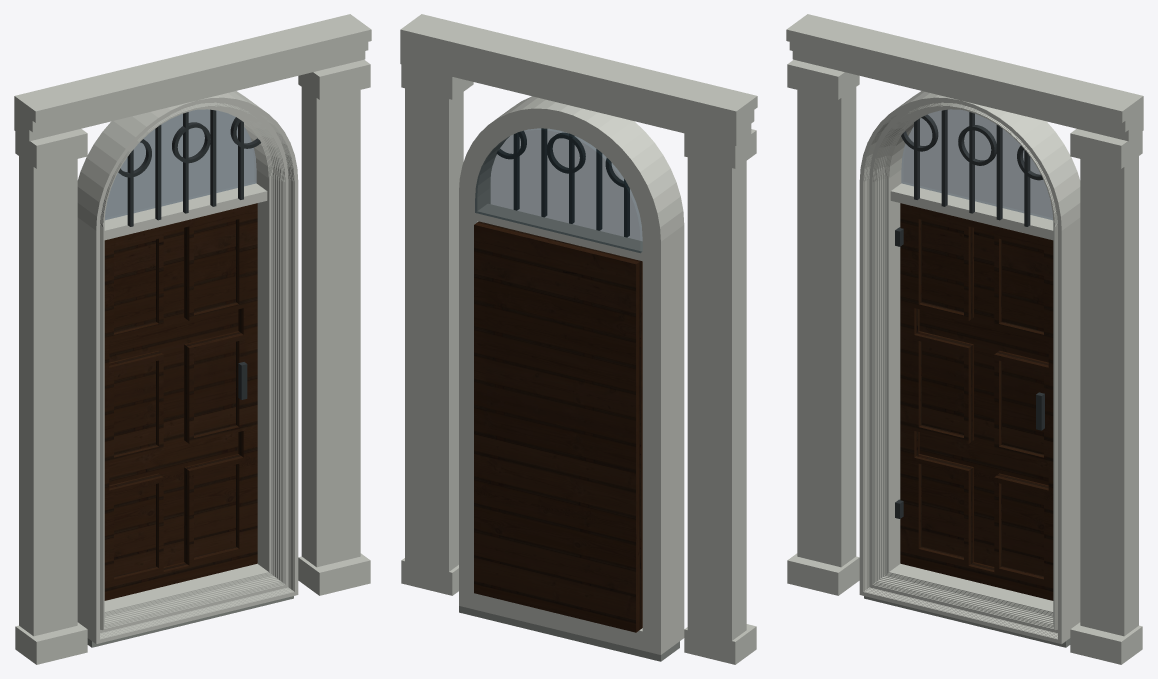
File: republicano_arch_puerta.glb
3 renders of one model, left to right at view 1: azimuth 30°, elevation 25°; view 2: azimuth 150°, elevation 25°; view 3: azimuth 330°, elevation 25°, orthographic.
Visible parts, largest first — view 1: door_pilaster#0002, door_pilaster#0001, door_panel_back#0001, door_portal_cornice#0003, door_leaf_frame#0001, door_moulding#0028, door_reveal#0001, transom_glass#0001, transom_grille#0001, door_coffer#0005, door_coffer#0004, door_coffer#0006 (+42 smaller); view 2: door_panel_back#0001, door_pilaster#0001, door_reveal#0001, door_pilaster#0002, door_leaf_frame#0001, transom_glass#0001, door_portal_cornice#0003, door_moulding#0028, door_portal_cornice#0002, door_portal_cornice#0001, transom_rail#0001, transom_grille#0001 (+5 smaller); view 3: door_pilaster#0001, door_pilaster#0002, door_panel_back#0001, door_portal_cornice#0003, door_leaf_frame#0001, door_moulding#0028, door_reveal#0001, transom_glass#0001, transom_grille#0001, door_coffer#0002, door_coffer#0001, door_coffer#0003 (+42 smaller).
Boxes of the visible parts, left/top/right/bottom form: door_pilaster#0002: left=301, top=87, right=360, bottom=567; door_pilaster#0001: left=19, top=156, right=77, bottom=636; door_panel_back#0001: left=109, top=228, right=238, bottom=566; door_portal_cornice#0003: left=14, top=14, right=371, bottom=122; door_leaf_frame#0001: left=104, top=203, right=257, bottom=600; door_moulding#0028: left=81, top=92, right=298, bottom=643; door_reveal#0001: left=77, top=91, right=266, bottom=624; transom_glass#0001: left=105, top=109, right=256, bottom=220; transom_grille#0001: left=118, top=109, right=260, bottom=226; door_coffer#0005: left=184, top=331, right=239, bottom=441; door_coffer#0004: left=184, top=454, right=240, bottom=563; door_coffer#0006: left=184, top=220, right=235, bottom=318; door_panel_back#0001: left=488, top=242, right=622, bottom=614; door_pilaster#0001: left=687, top=134, right=746, bottom=663; door_reveal#0001: left=459, top=101, right=670, bottom=654; door_pilaster#0002: left=405, top=65, right=463, bottom=594; door_leaf_frame#0001: left=474, top=221, right=642, bottom=632; transom_glass#0001: left=475, top=128, right=642, bottom=252; door_portal_cornice#0003: left=400, top=14, right=757, bottom=122; door_moulding#0028: left=501, top=96, right=684, bottom=648; door_portal_cornice#0002: left=400, top=41, right=754, bottom=134; door_portal_cornice#0001: left=400, top=52, right=751, bottom=145; transom_rail#0001: left=477, top=204, right=642, bottom=261; transom_grille#0001: left=497, top=128, right=629, bottom=237; door_pilaster#0001: left=797, top=87, right=856, bottom=567; door_pilaster#0002: left=1080, top=156, right=1138, bottom=636; door_panel_back#0001: left=919, top=228, right=1048, bottom=566; door_portal_cornice#0003: left=786, top=14, right=1143, bottom=122; door_leaf_frame#0001: left=900, top=203, right=1053, bottom=600; door_moulding#0028: left=859, top=92, right=1076, bottom=643; door_reveal#0001: left=891, top=91, right=1080, bottom=624; transom_glass#0001: left=901, top=109, right=1052, bottom=220; transom_grille#0001: left=901, top=109, right=1042, bottom=226; door_coffer#0002: left=918, top=331, right=973, bottom=441; door_coffer#0001: left=917, top=454, right=973, bottom=563; door_coffer#0003: left=922, top=220, right=973, bottom=318.
Size of the model in its own units: 1.83 by 2.92 by 0.325.
6 materials, 1 textured.
